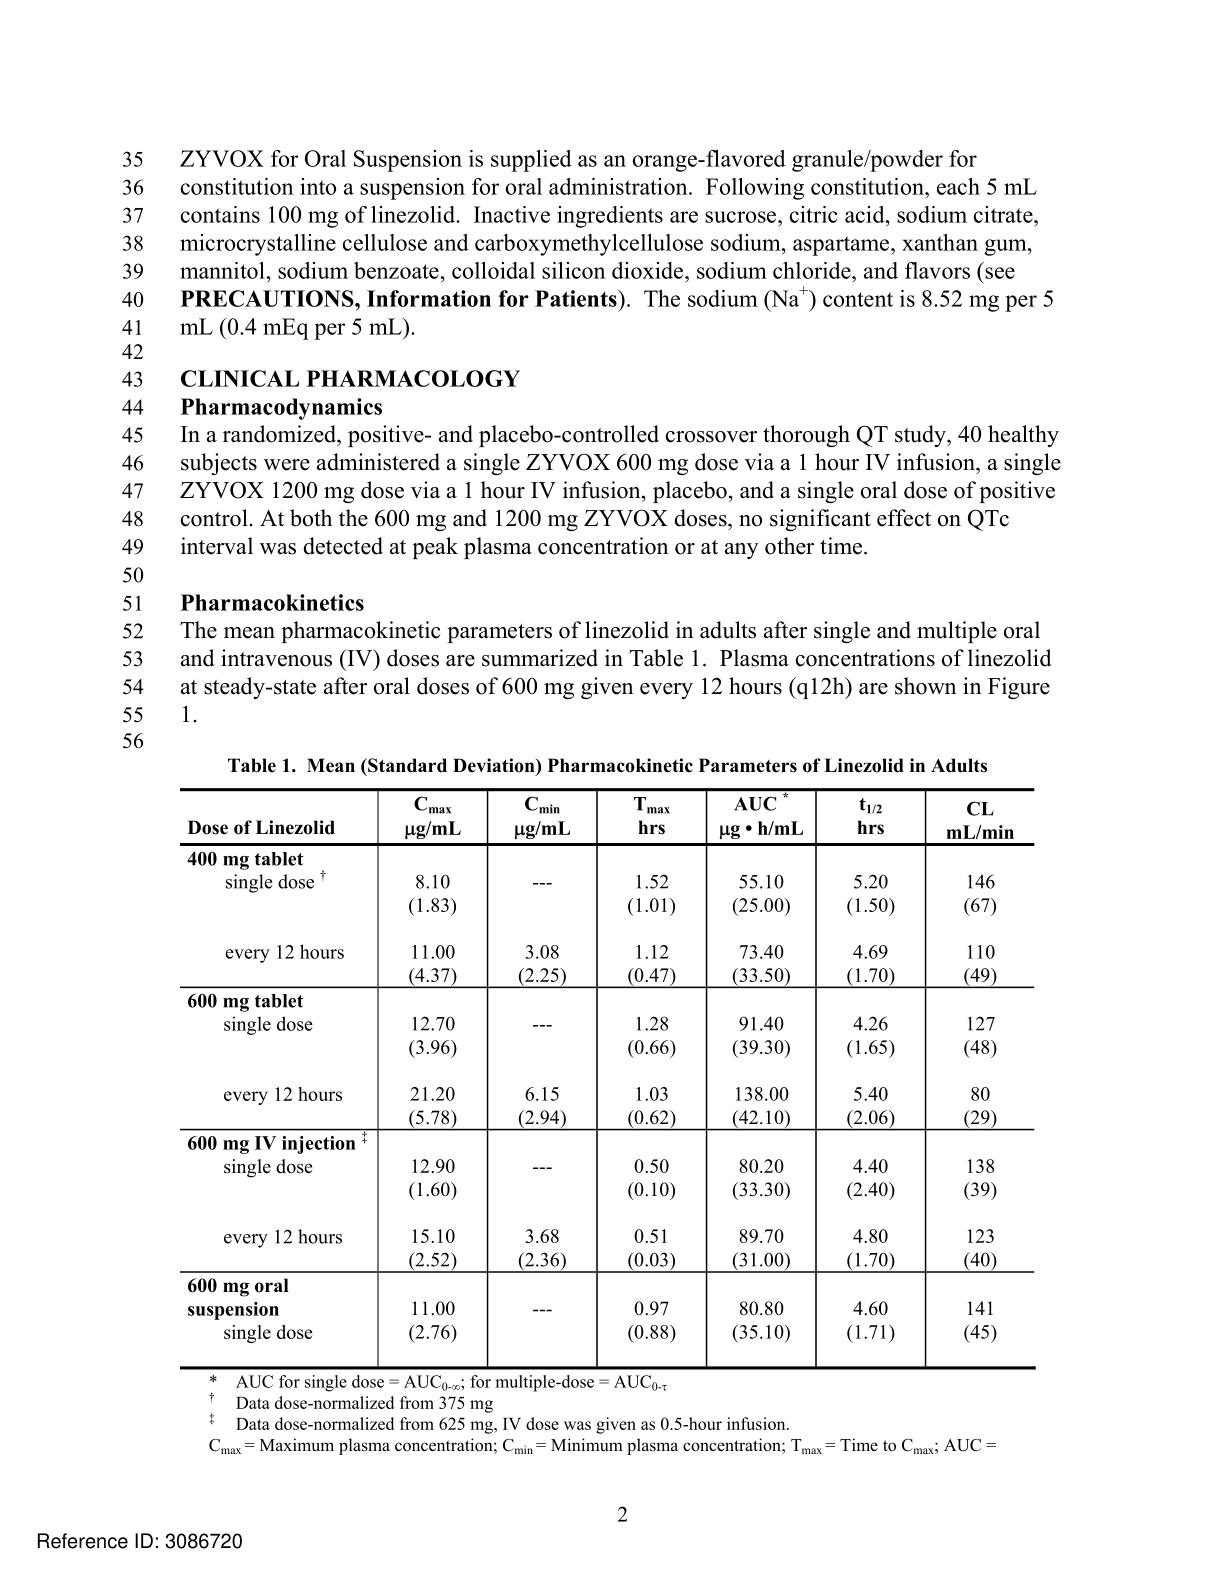partial_lined: (177, 787, 1036, 1372)
